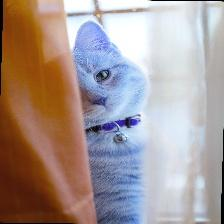kedo: (68, 20, 151, 224)
